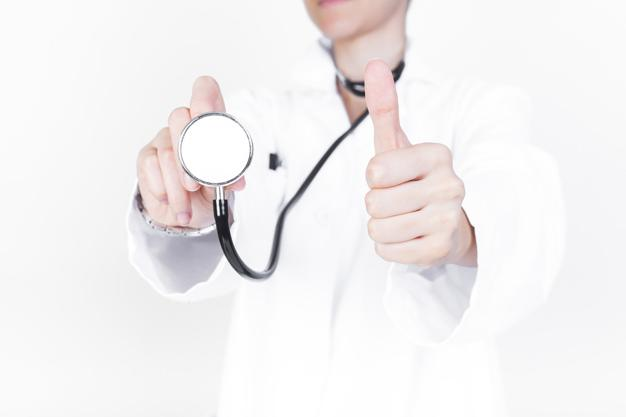thumbsup: (364, 58, 466, 267)
